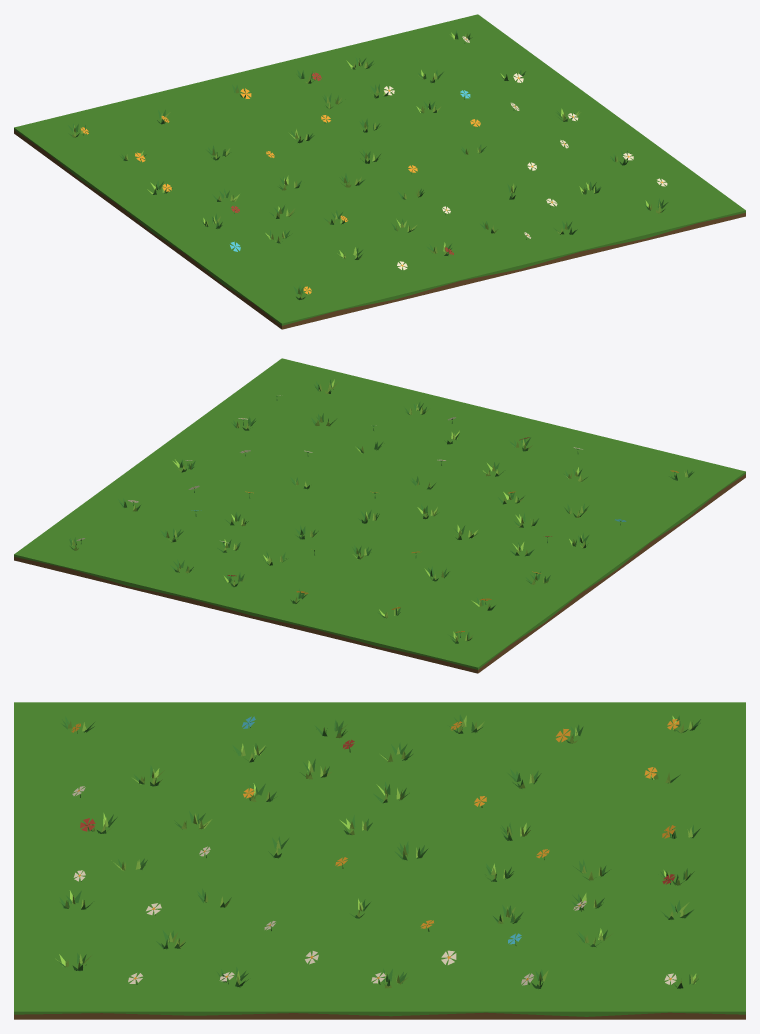
Rendered from meadow-tile-d0d82a.glb.
3 renders of one model, top to bottom at view 1: azimuth 30°, elevation 25°; view 2: azimuth 150°, elevation 25°; view 3: azimuth 270°, elevation 25°, orthographic. The views are drawn at different scales.
Parts seen in each view (by area): view 1: meadow-tile-slab, meadow-tile-sward; view 2: meadow-tile-slab, meadow-tile-sward; view 3: meadow-tile-slab, meadow-tile-sward.
Part boxes in pixels (x1,y1,x2,y2): meadow-tile-slab: (14,14,745,329); meadow-tile-sward: (68,30,668,299); meadow-tile-slab: (14,358,745,673); meadow-tile-sward: (69,379,693,643); meadow-tile-slab: (14,702,745,1019); meadow-tile-sward: (55,714,700,988).
Size of the model in its own units: 4 by 0.1179 by 4.
